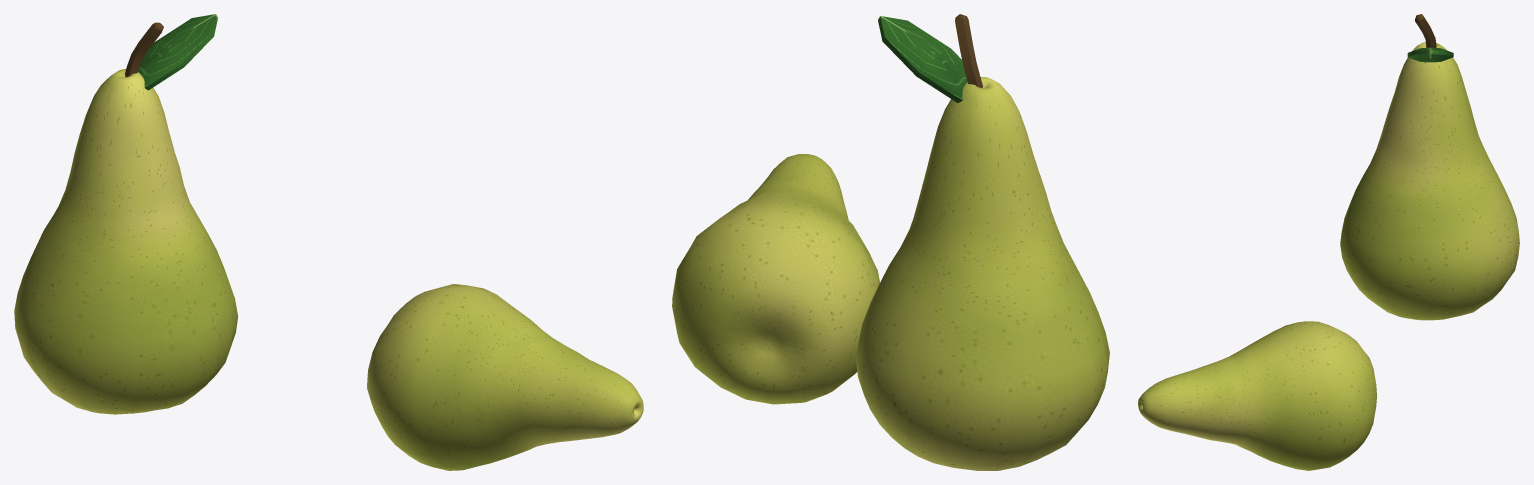
The model's file is fruit_pear_ripe.glb.
3 renders of one model, left to right at view 1: azimuth 30°, elevation 25°; view 2: azimuth 150°, elevation 25°; view 3: azimuth 270°, elevation 25°, orthographic. The views are drawn at different scales.
Visible parts, largest first — view 1: fruit_pear_ripe; view 2: fruit_pear_ripe; view 3: fruit_pear_ripe.
Part boxes in pixels (<box>): fruit_pear_ripe: <box>14,14,643,470</box>; fruit_pear_ripe: <box>672,14,1109,470</box>; fruit_pear_ripe: <box>1138,14,1519,470</box>.
Bounding box in the file's own units: 0.1535 × 0.1466 × 0.1417.
Materials: 3 (2 with a texture image).
